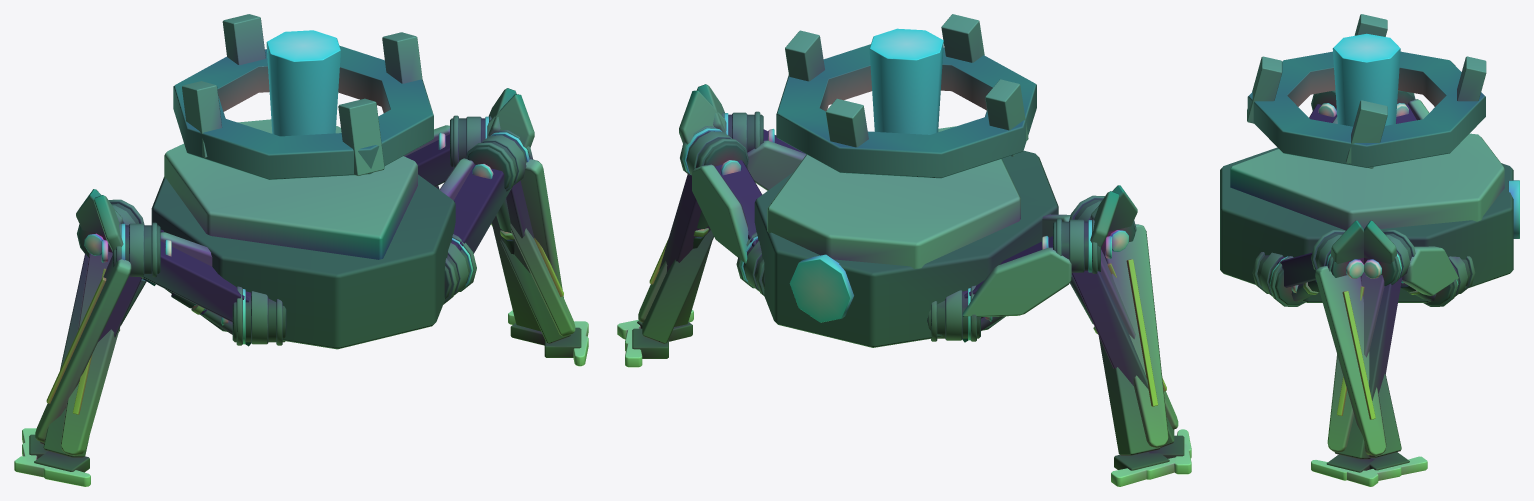
The model's file is shielder.glb.
3 views of the same model, side by side, from view 1: azimuth 30°, elevation 25°; view 2: azimuth 150°, elevation 25°; view 3: azimuth 270°, elevation 25° (orthographic). The views are drawn at different scales.
Visible parts, largest first — view 1: Body__dark, Body__armor, Crown_Spinner_Y_0__gunmetal, Crown_Spinner_Y_0__armor_sub, Crown_Spinner_Y_0__emit_core, Hip_2__dark, Hip_3_Knee__gunmetal, Hip_0_Knee__armor, Hip_2_Knee__armor, Hip_3__dark, Hip_2_Knee__gunmetal, Hip_1_Knee__gunmetal (+19 smaller); view 2: Body__armor, Body__dark, Crown_Spinner_Y_0__gunmetal, Crown_Spinner_Y_0__emit_core, Crown_Spinner_Y_0__armor_sub, Hip_2_Knee__armor, Hip_0_Knee__gunmetal, Hip_0__armor, Hip_3_Knee__gunmetal, Hip_1_Knee__gunmetal, Body__emit_core, Hip_1__armor (+18 smaller); view 3: Body__armor, Crown_Spinner_Y_0__gunmetal, Body__dark, Hip_3_Knee__armor, Crown_Spinner_Y_0__emit_core, Crown_Spinner_Y_0__armor_sub, Hip_1_Knee__gunmetal, Hip_1_Knee__armor, Hip_1__armor, Hip_3_Knee__gunmetal, Hip_3__dark, Hip_3__gunmetal (+10 smaller).
Boxes of the visible parts, box(x1,y1,x2,y2) form: Body__dark: box(151, 174, 455, 349); Body__armor: box(164, 119, 417, 259); Crown_Spinner_Y_0__gunmetal: box(173, 45, 433, 179); Crown_Spinner_Y_0__armor_sub: box(182, 14, 422, 175); Crown_Spinner_Y_0__emit_core: box(266, 30, 340, 136); Hip_2__dark: box(142, 241, 286, 346); Hip_3_Knee__gunmetal: box(466, 130, 540, 331); Hip_0_Knee__armor: box(60, 251, 120, 455); Hip_2_Knee__armor: box(35, 255, 131, 442); Hip_3__dark: box(444, 164, 511, 298); Hip_2_Knee__gunmetal: box(40, 222, 157, 444); Hip_1_Knee__gunmetal: box(453, 115, 570, 343); Body__armor: box(767, 126, 1020, 268); Body__dark: box(754, 150, 1058, 347); Crown_Spinner_Y_0__gunmetal: box(776, 44, 1036, 178); Crown_Spinner_Y_0__emit_core: box(869, 28, 943, 134); Crown_Spinner_Y_0__armor_sub: box(785, 14, 1028, 156); Hip_2_Knee__armor: box(1104, 224, 1168, 447); Hip_0_Knee__gunmetal: box(1056, 218, 1174, 447); Hip_0__armor: box(962, 247, 1071, 317); Hip_3_Knee__gunmetal: box(642, 111, 760, 343); Hip_1_Knee__gunmetal: box(659, 126, 748, 326); Body__emit_core: box(789, 254, 853, 322); Hip_1__armor: box(692, 164, 748, 263); Body__armor: box(1230, 133, 1504, 230); Crown_Spinner_Y_0__gunmetal: box(1247, 51, 1485, 167); Body__dark: box(1220, 147, 1513, 302); Hip_3_Knee__armor: box(1315, 266, 1386, 455); Crown_Spinner_Y_0__emit_core: box(1332, 33, 1400, 126); Crown_Spinner_Y_0__armor_sub: box(1247, 14, 1486, 168); Hip_1_Knee__gunmetal: box(1334, 230, 1415, 459); Hip_1_Knee__armor: box(1327, 272, 1384, 452); Hip_1__armor: box(1402, 246, 1458, 295); Hip_3_Knee__gunmetal: box(1311, 230, 1401, 457); Hip_3__dark: box(1257, 252, 1315, 305); Hip_3__gunmetal: box(1252, 252, 1312, 306).
Size of the model in its own units: 2.06 by 1.23 by 1.06.
